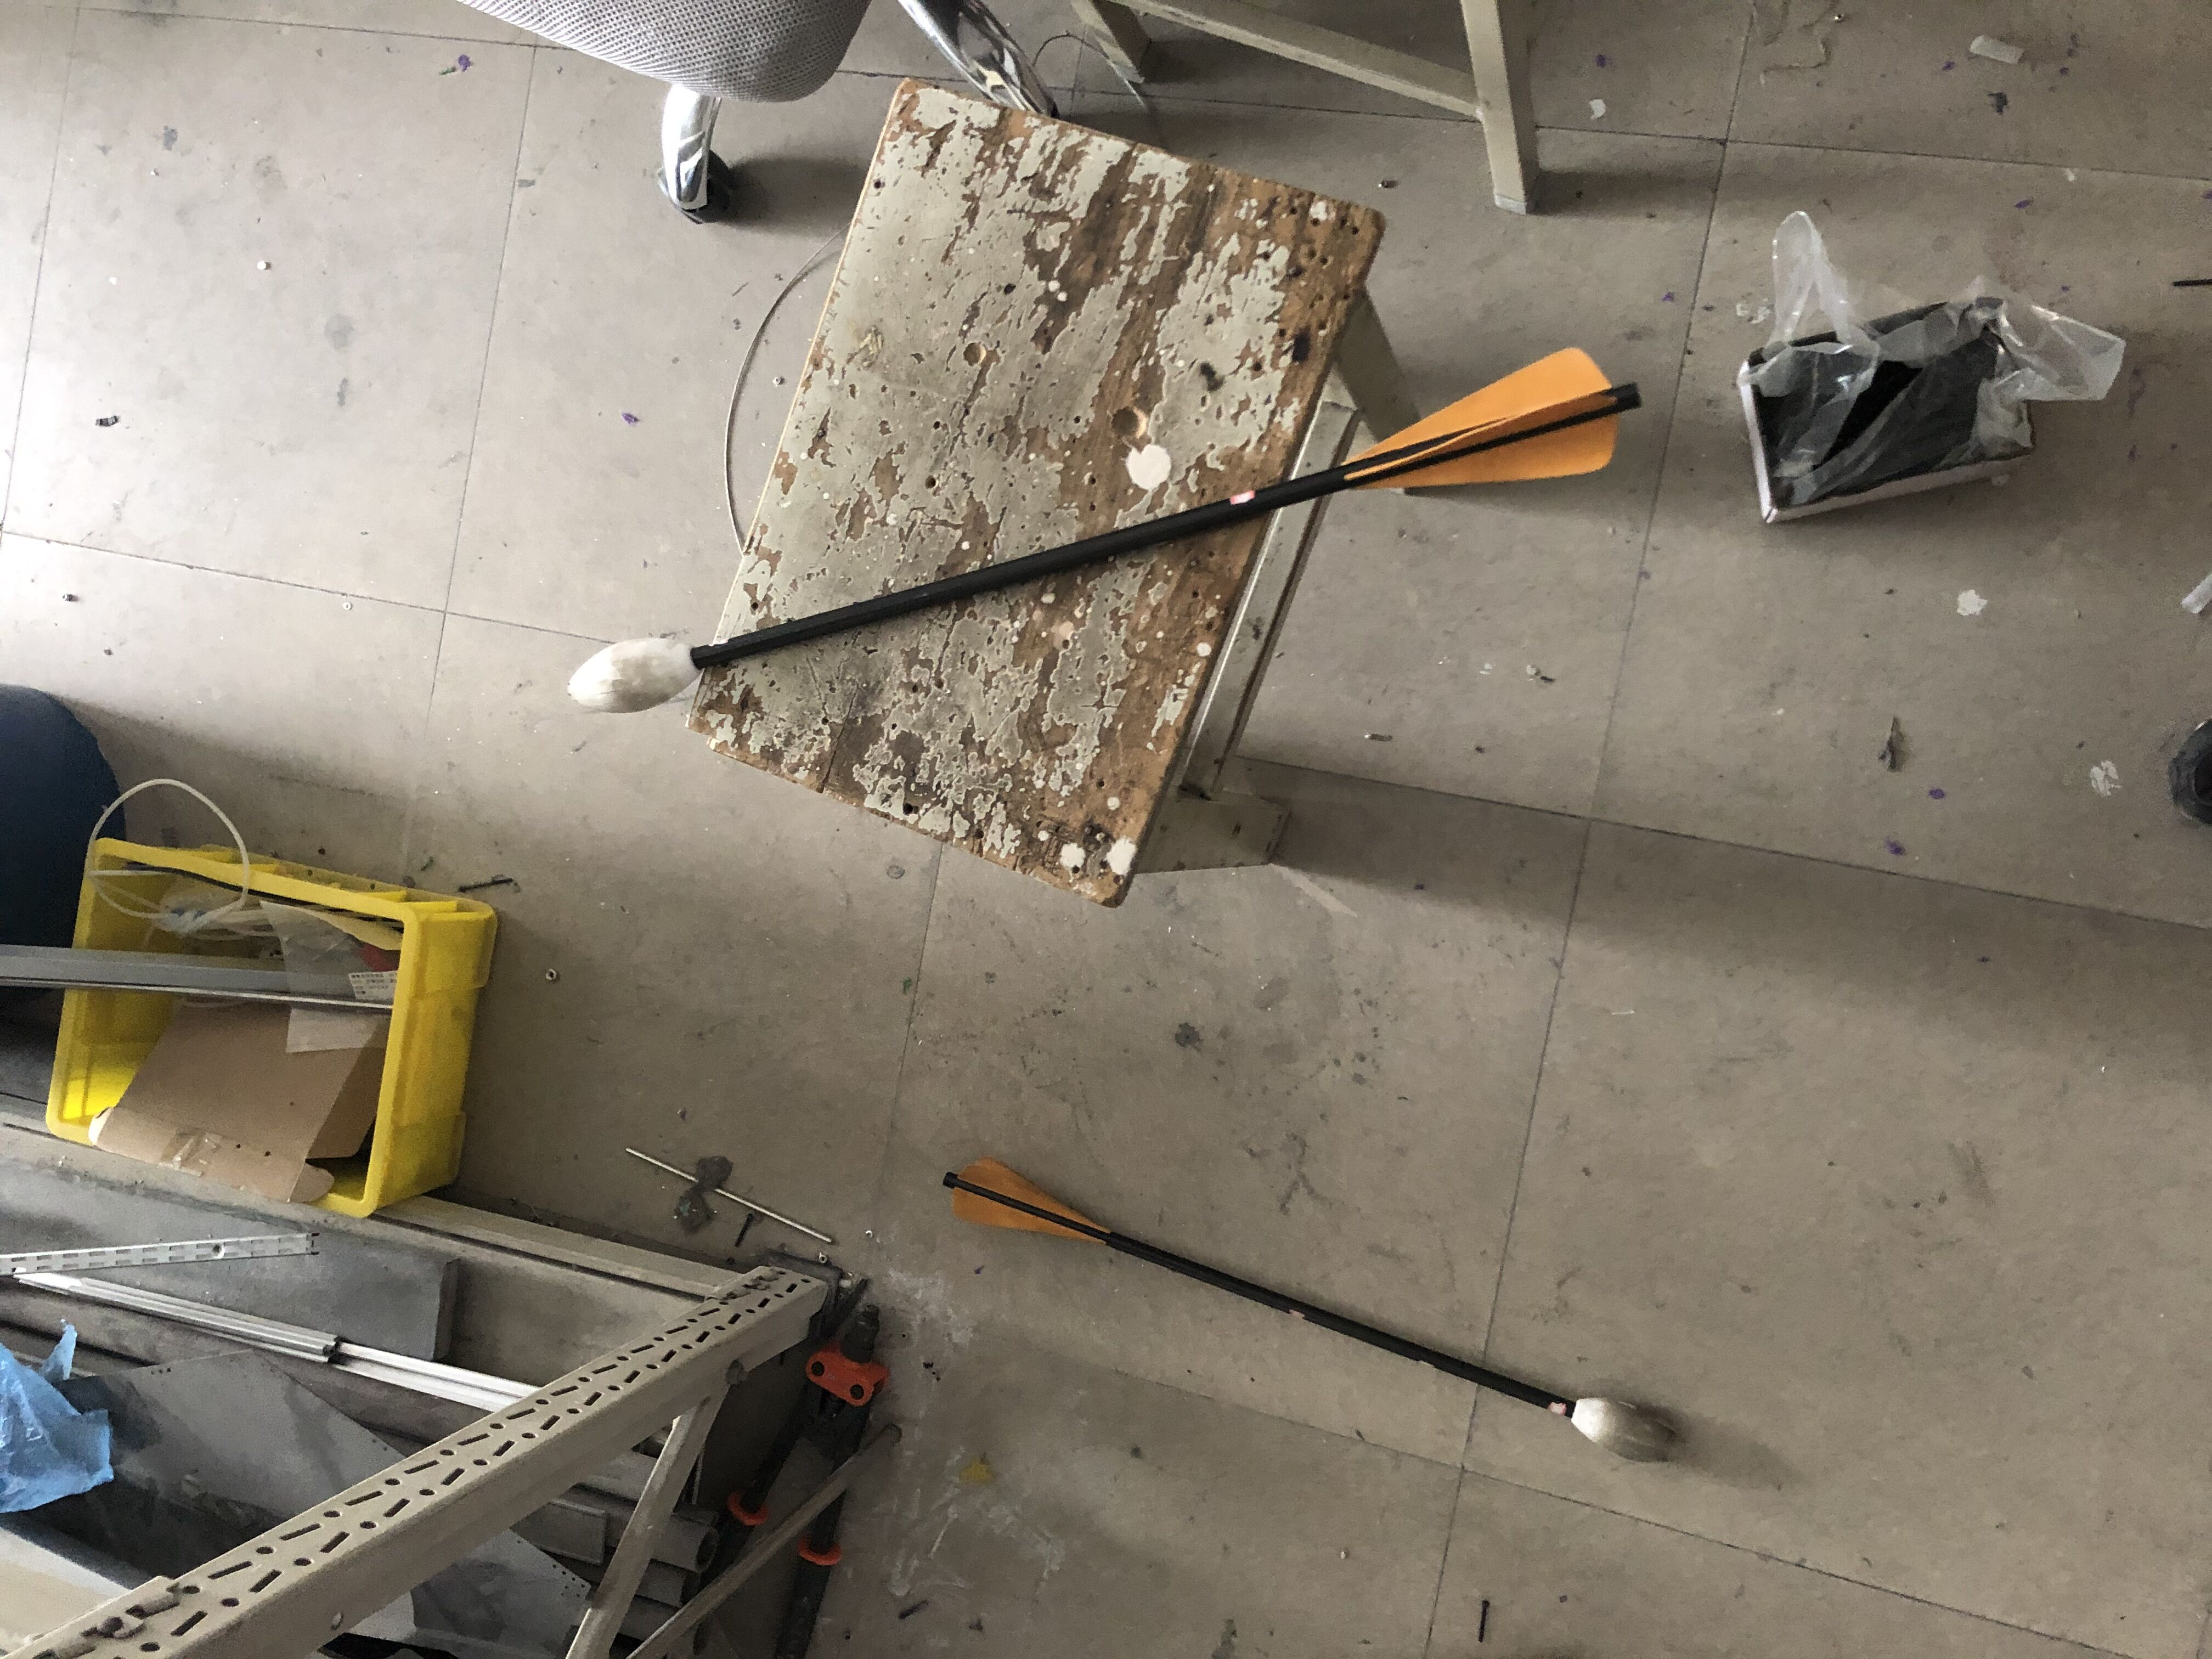arrow: (563, 342, 1642, 716), (941, 1157, 1676, 1466)
arrowFront: (559, 634, 705, 713), (1566, 1389, 1677, 1469)
